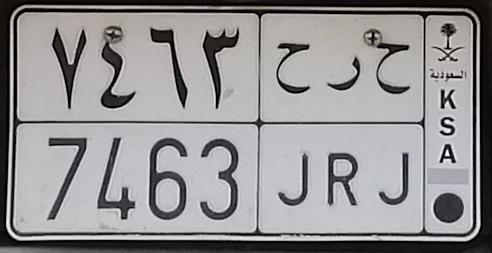3: (199, 28, 240, 222)
4: (95, 32, 135, 222)
6: (147, 25, 187, 222)
7: (45, 27, 89, 222)
J: (373, 40, 410, 206), (275, 39, 311, 208)
R: (322, 53, 361, 208)
